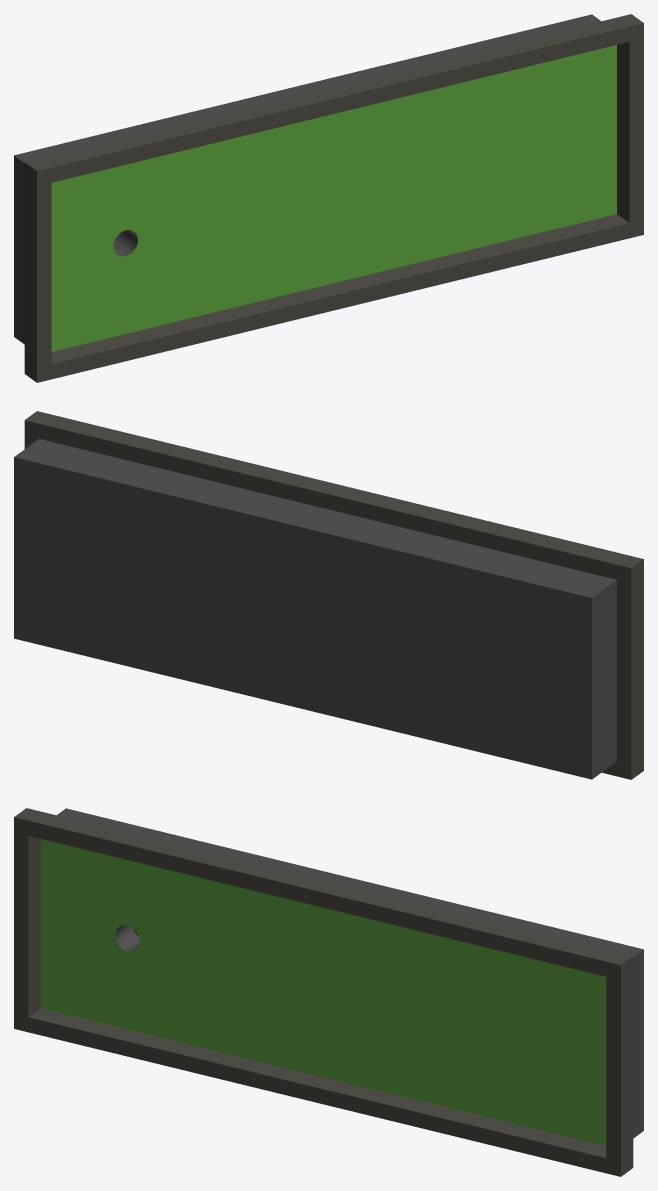
Rendered from Part Studio 1.obj.
The picture shows the model from 3 angles, top to bottom: view 1: azimuth 30°, elevation 25°; view 2: azimuth 150°, elevation 25°; view 3: azimuth 330°, elevation 25°; orthographic projection.
Visible parts, largest first — view 1: mesh26, mesh22, mesh16, mesh14, mesh19, mesh29, mesh4, mesh10, mesh8, mesh0, mesh30; view 2: mesh31, mesh29, mesh17, mesh14, mesh30, mesh11, mesh8; view 3: mesh26, mesh22, mesh16, mesh14, mesh19, mesh29, mesh4, mesh10, mesh2, mesh6, mesh28.
Boxes of the visible parts, x1=… form: mesh26: x1=51, y1=45, x2=616, y2=351; mesh22: x1=51, y1=223, x2=629, y2=379; mesh16: x1=51, y1=26, x2=629, y2=182; mesh14: x1=39, y1=17, x2=628, y2=167; mesh19: x1=51, y1=214, x2=628, y2=363; mesh29: x1=14, y1=14, x2=600, y2=162; mesh4: x1=629, y1=23, x2=643, y2=238; mesh10: x1=37, y1=167, x2=51, y2=382; mesh8: x1=24, y1=162, x2=36, y2=382; mesh0: x1=617, y1=42, x2=629, y2=222; mesh30: x1=14, y1=155, x2=24, y2=344; mesh31: x1=14, y1=457, x2=591, y2=779; mesh29: x1=14, y1=439, x2=616, y2=597; mesh17: x1=39, y1=423, x2=616, y2=579; mesh14: x1=39, y1=414, x2=629, y2=564; mesh30: x1=592, y1=580, x2=616, y2=779; mesh11: x1=617, y1=565, x2=631, y2=779; mesh8: x1=631, y1=559, x2=643, y2=779; mesh26: x1=41, y1=839, x2=606, y2=1145; mesh22: x1=28, y1=1017, x2=606, y2=1173; mesh16: x1=28, y1=820, x2=606, y2=976; mesh14: x1=29, y1=811, x2=618, y2=961; mesh19: x1=29, y1=1008, x2=606, y2=1157; mesh29: x1=57, y1=808, x2=643, y2=956; mesh4: x1=606, y1=961, x2=620, y2=1176; mesh10: x1=14, y1=817, x2=28, y2=1032; mesh2: x1=621, y1=956, x2=633, y2=1176; mesh6: x1=28, y1=836, x2=40, y2=1016; mesh28: x1=633, y1=949, x2=643, y2=1138.
Size of the model in its own units: 21 by 7 by 2.25.
